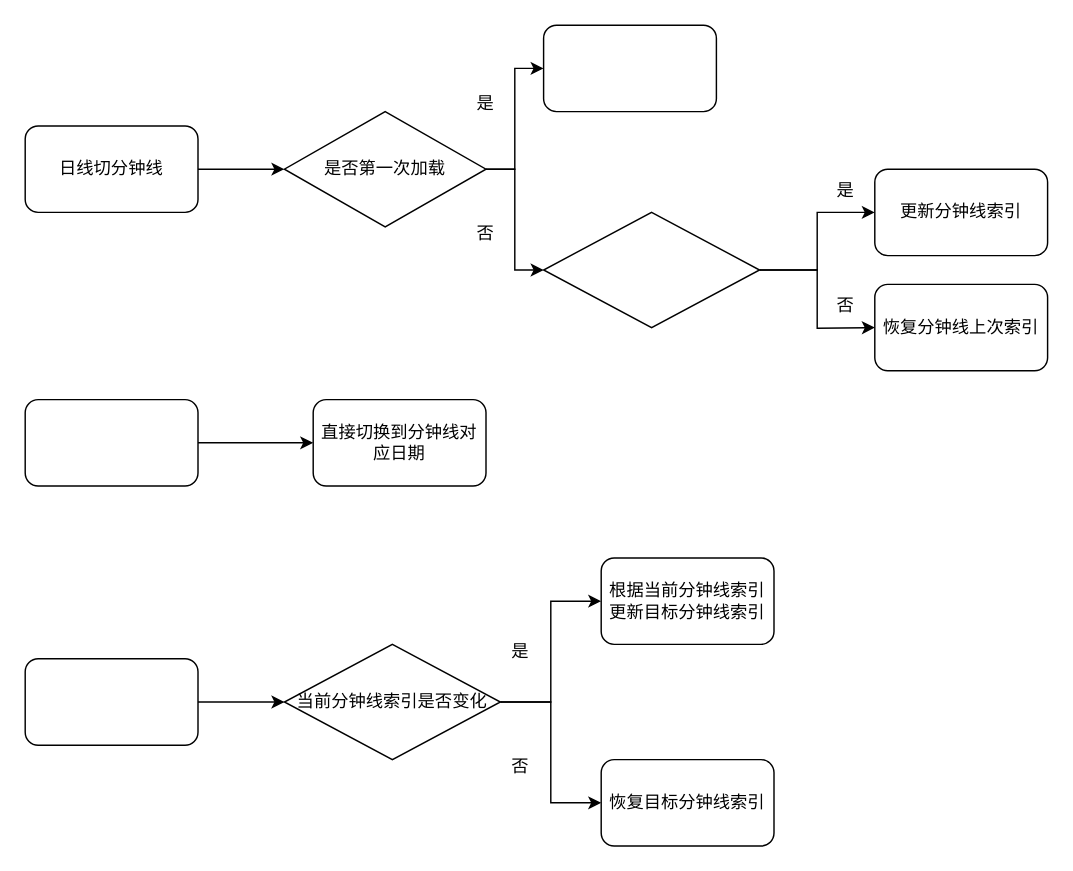
The diagram is 1073 pixels wide and 871 high, and some of its shapes have lost their labels. The centre of each missing label's shape, as x and y in pixels:
分钟线切分钟线: the point at 111,701
分钟线切日线: the point at 111,442
日线索引是否变化: the point at 651,269
直接加载到最后: the point at 629,68
